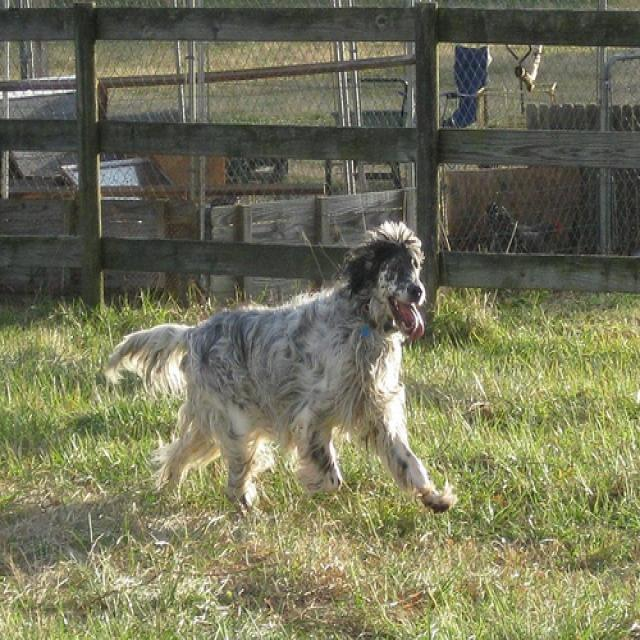dog-english_setter: (93, 214, 461, 518)
